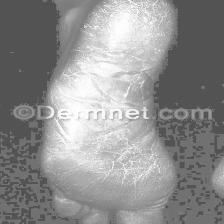Non-Cancerous Skin Condition: (63, 2, 168, 103), (47, 122, 159, 190)
